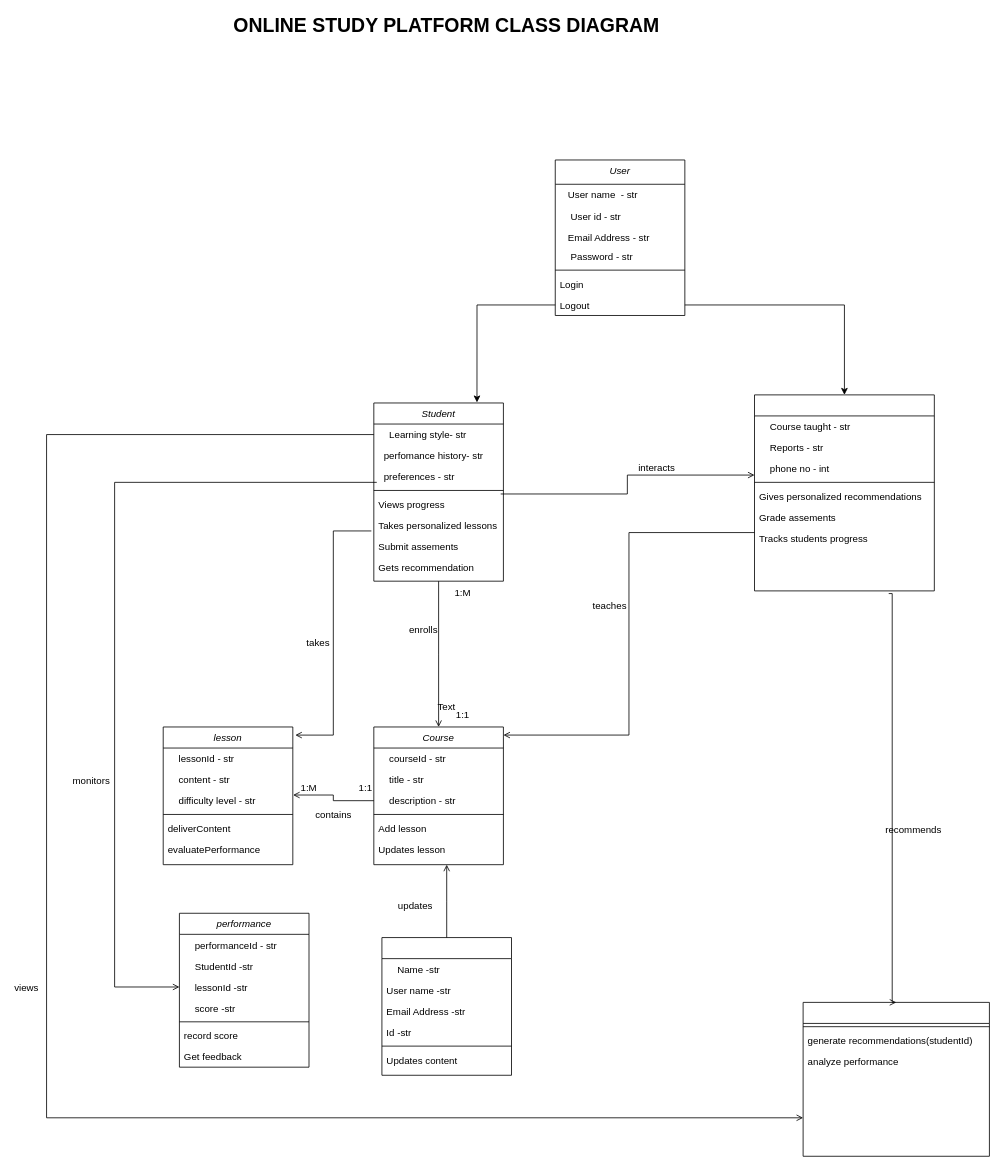
Image size: 1004x1170. Some labels were removed from this diagram. The box of each missing label's shape, as (x1, y1, x2, y2) in pixels:
RecommendationEngine: (802, 1002, 989, 1156)
System Admin: (381, 937, 512, 1075)
Teacher: (754, 394, 934, 591)
